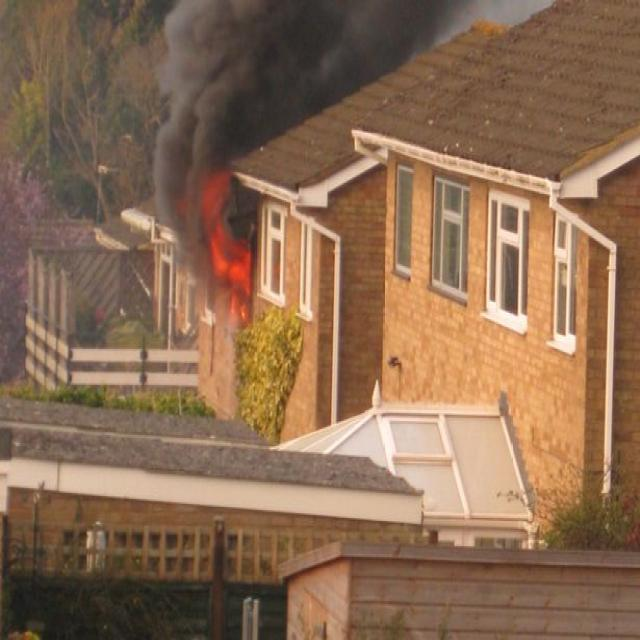Fire: (203, 216, 258, 290)
Smoke: (179, 8, 321, 102)
